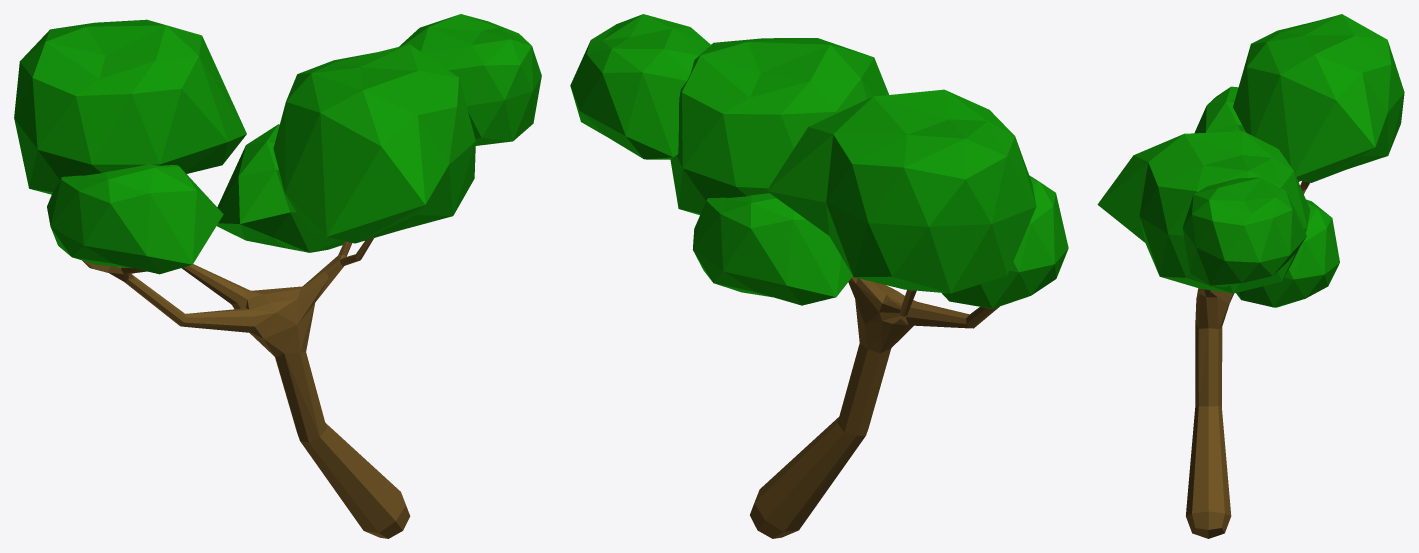
Rendered from Tree_3.fbx.
3 views of the same model, side by side, from view 1: azimuth 30°, elevation 25°; view 2: azimuth 150°, elevation 25°; view 3: azimuth 270°, elevation 25° (orthographic). The views are drawn at different scales.
Parts seen in each view (by area): view 1: Icosphere.001, Plane; view 2: Icosphere.001, Plane; view 3: Icosphere.001, Plane.
Part boxes in pixels (x1,y1,x2,y2): Icosphere.001: (14, 14, 541, 274); Plane: (82, 237, 410, 538); Icosphere.001: (570, 14, 1068, 308); Plane: (750, 276, 999, 538); Icosphere.001: (1097, 14, 1404, 307); Plane: (1186, 180, 1309, 538).
Bounding box in the file's own units: 401 × 413 × 273.
